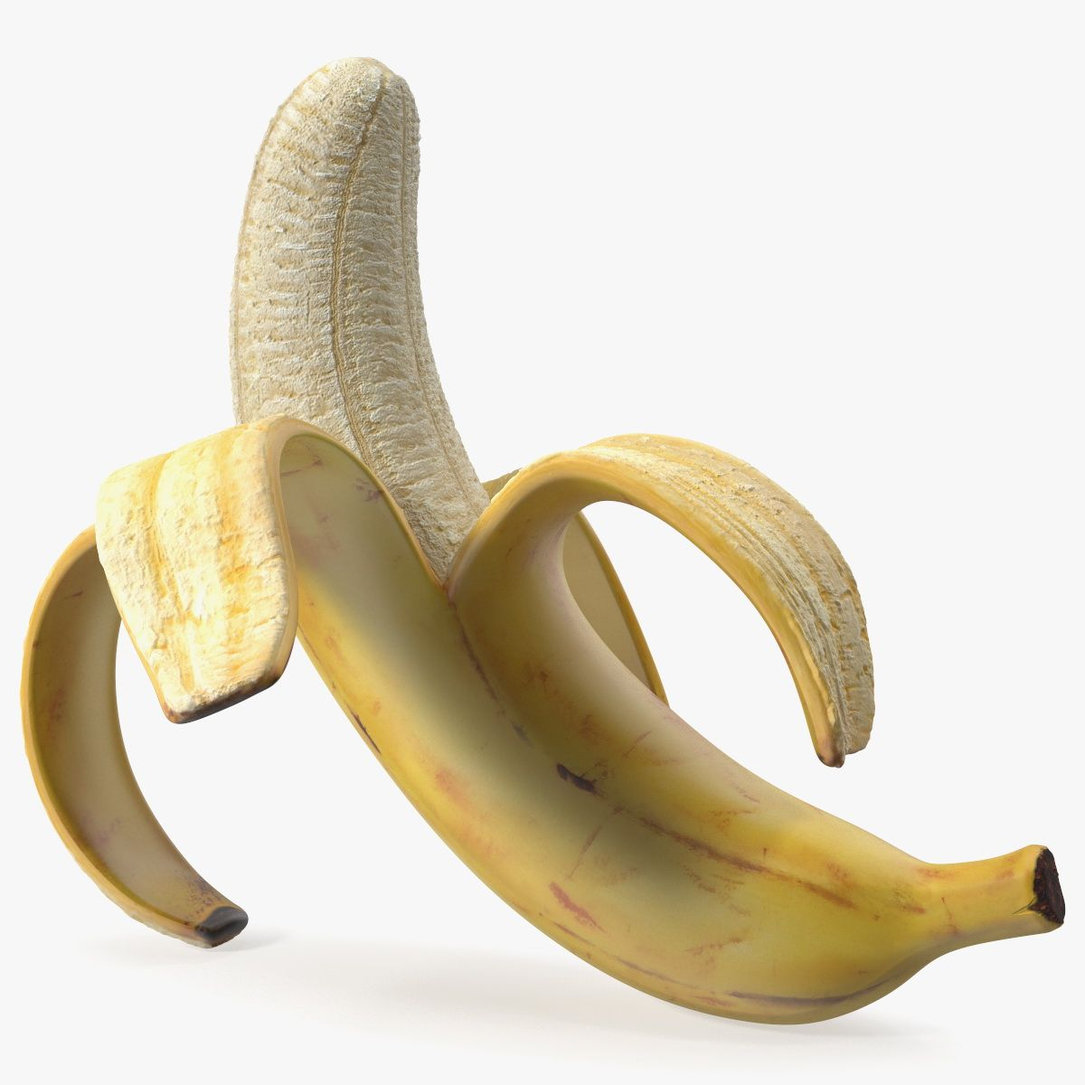banana: (12, 58, 1065, 1050)
